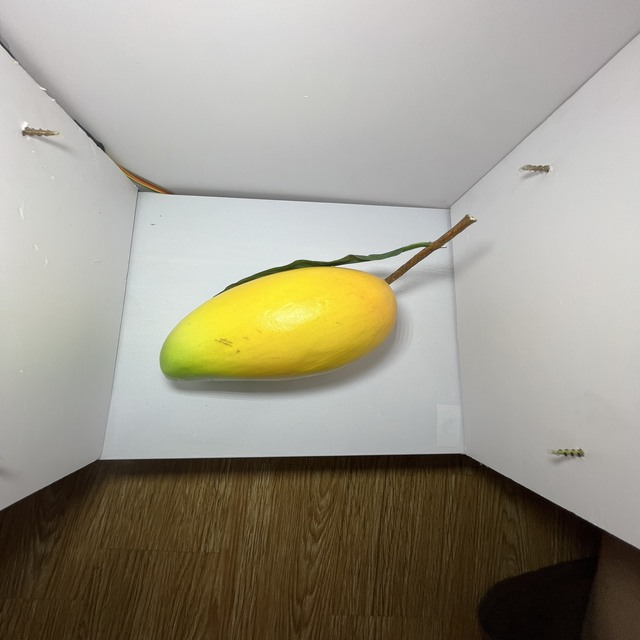Xoai: (158, 258, 401, 388)
